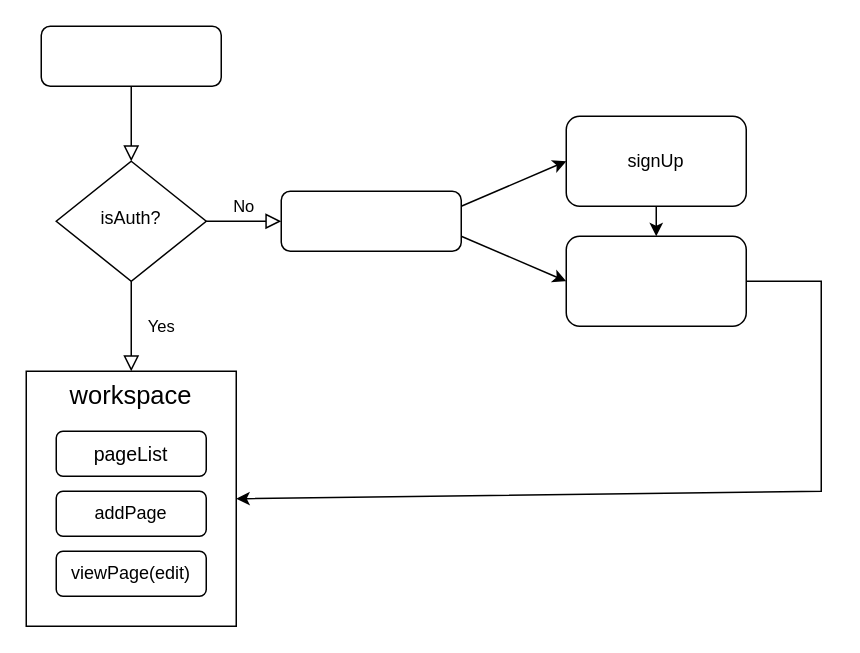
Some shapes in this 860 by 653 pixel diagram are drawn without their labels. Each missing label, with the centre of its shape:
Intro: the point at 370,220
Root: the point at 130,55
signIn: the point at 655,280
